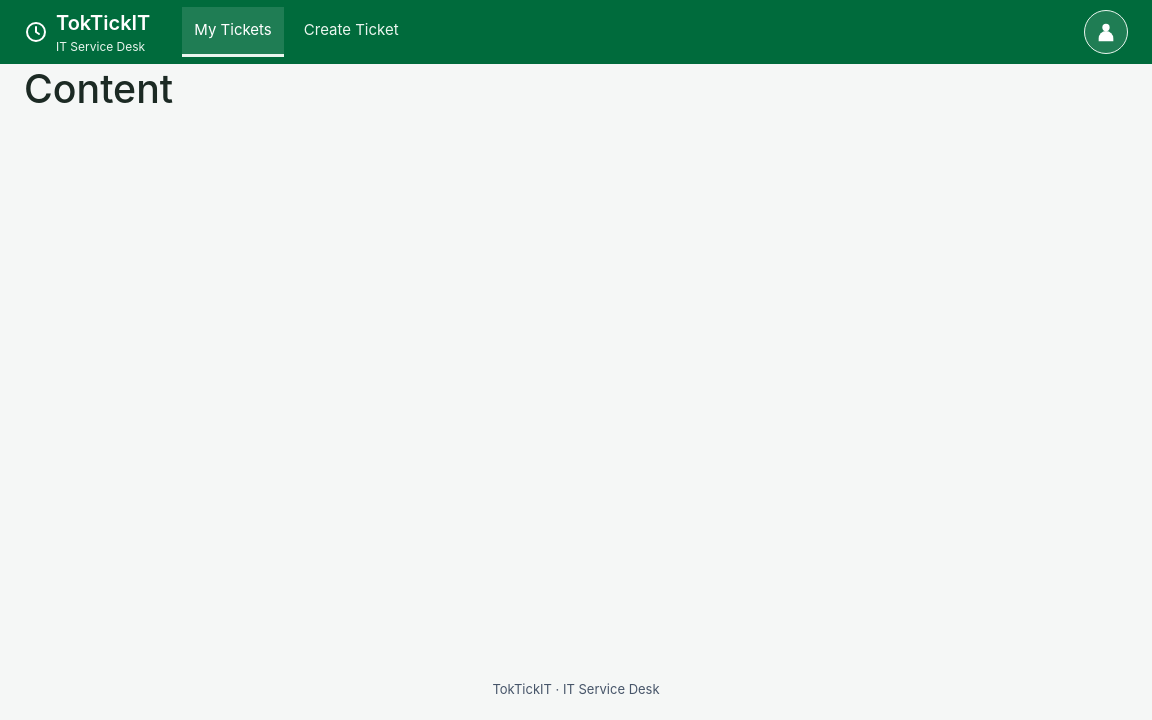
UI-SHELL-01: uses the shared profile menu for REQUESTER
Expected: the text "Jennifer Anderson" is not shown
Click the button named "Open profile menu".
click(1106, 32)  # box [1084,10,1128,54]
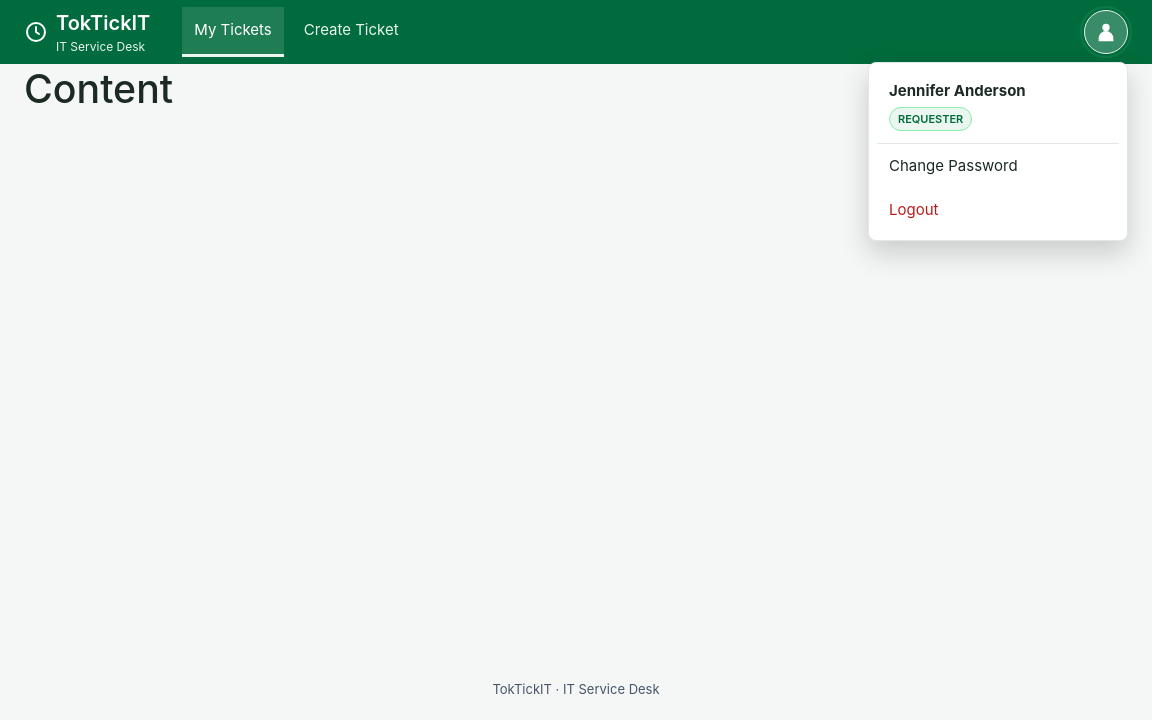
Result: the button named "Open profile menu" is expanded at [1084,10,1128,54]
Result: the text "Jennifer Anderson" is shown at [889,81,1026,100]
Result: the text "REQUESTER" is shown at [889,106,972,131]
